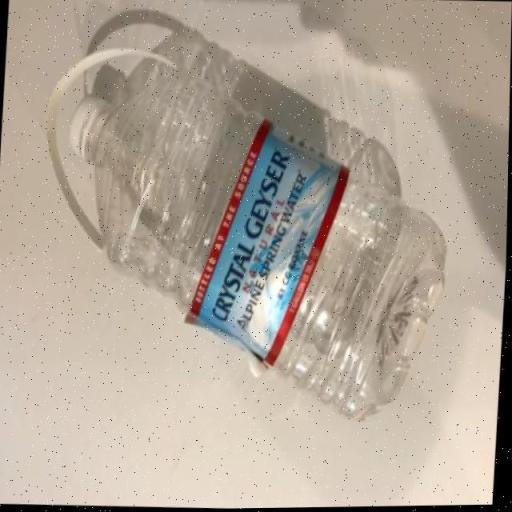plastic: (28, 38, 459, 432)
